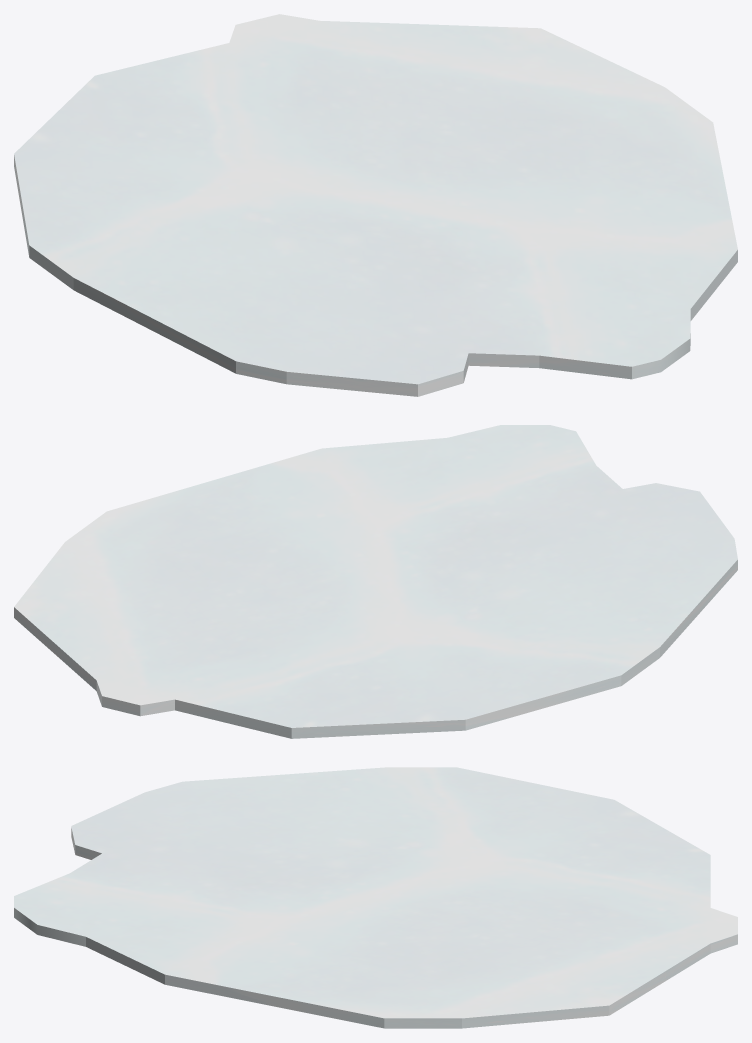
File: ice plane2.fbx
3 views of the same model, one above another, from view 1: azimuth 30°, elevation 25°; view 2: azimuth 150°, elevation 25°; view 3: azimuth 270°, elevation 25° (orthographic). The views are drawn at different scales.
Visible parts, largest first — view 1: polySurface2; view 2: polySurface2; view 3: polySurface2.
Boxes of the visible parts, left/top/right/bottom form: polySurface2: left=14, top=14, right=737, bottom=396; polySurface2: left=14, top=425, right=737, bottom=738; polySurface2: left=14, top=767, right=737, bottom=1028.
Bounding box in the file's own units: 1.44 × 0.0271 × 1.76.
1 material, 1 textured.
